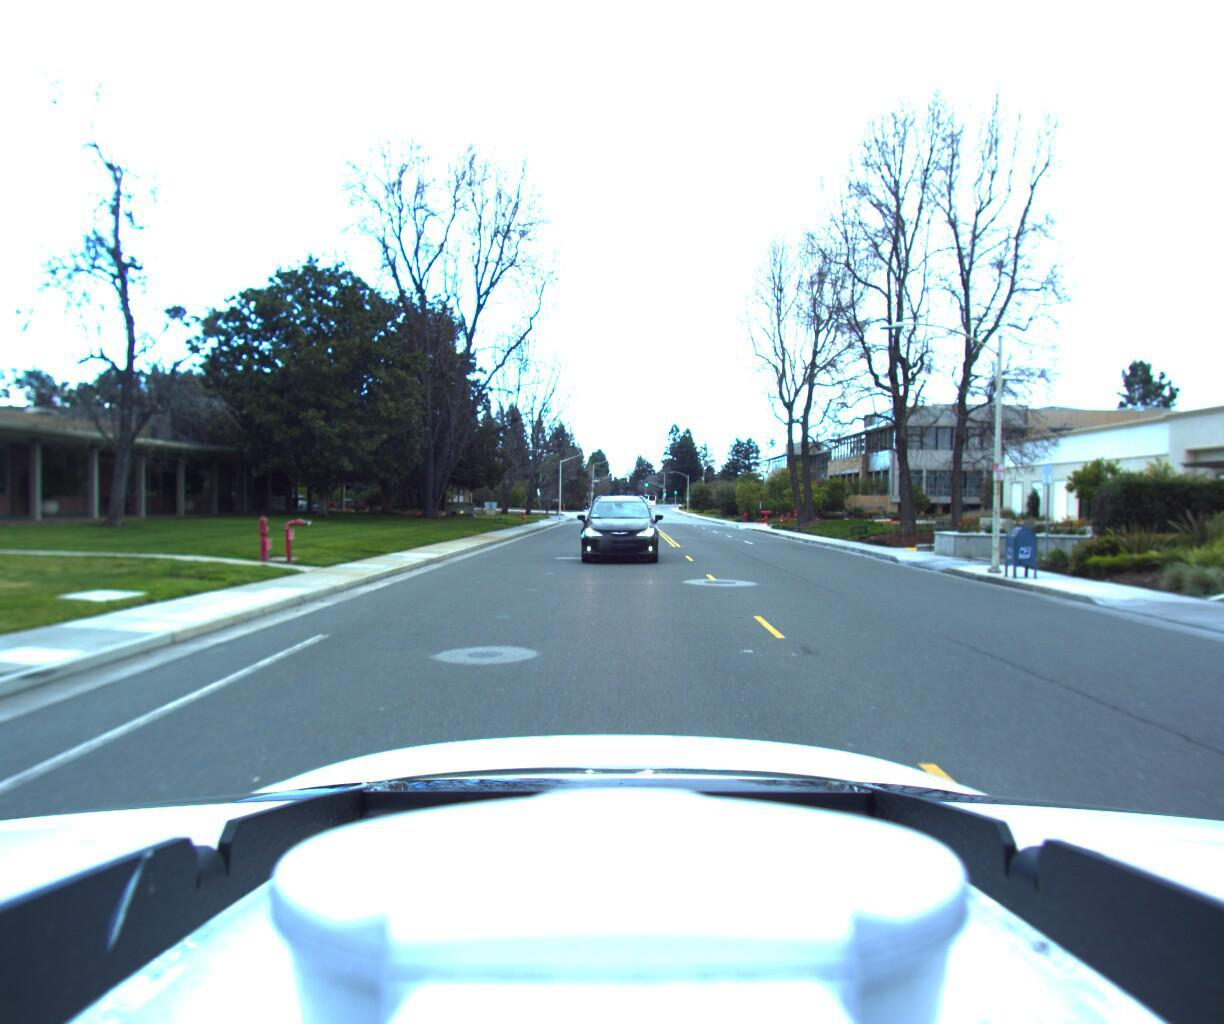car: (568, 488, 653, 568)
